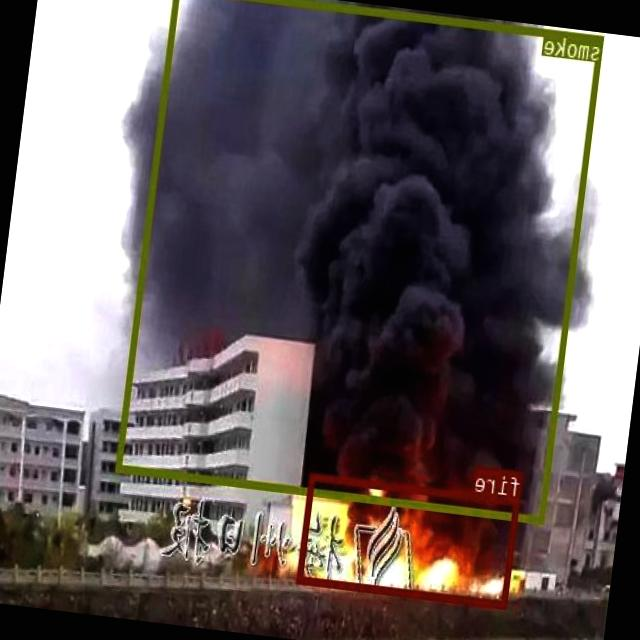fire: (298, 472, 520, 607)
smoke: (116, 0, 604, 522)
